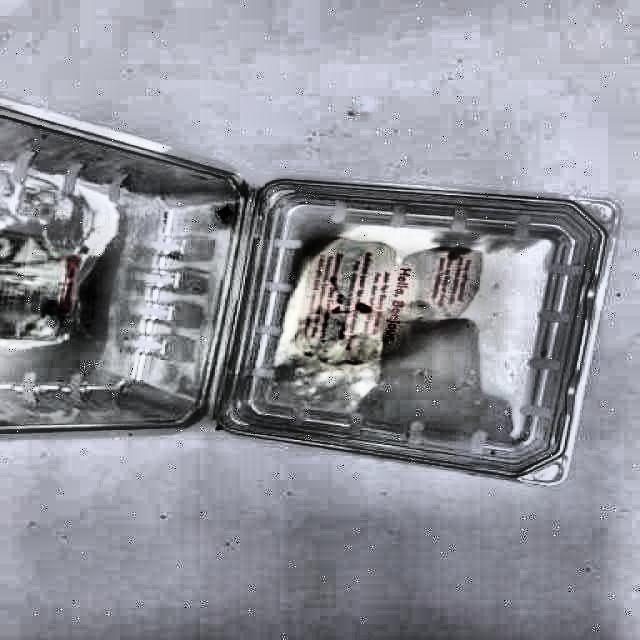plastic: (0, 100, 615, 483)
